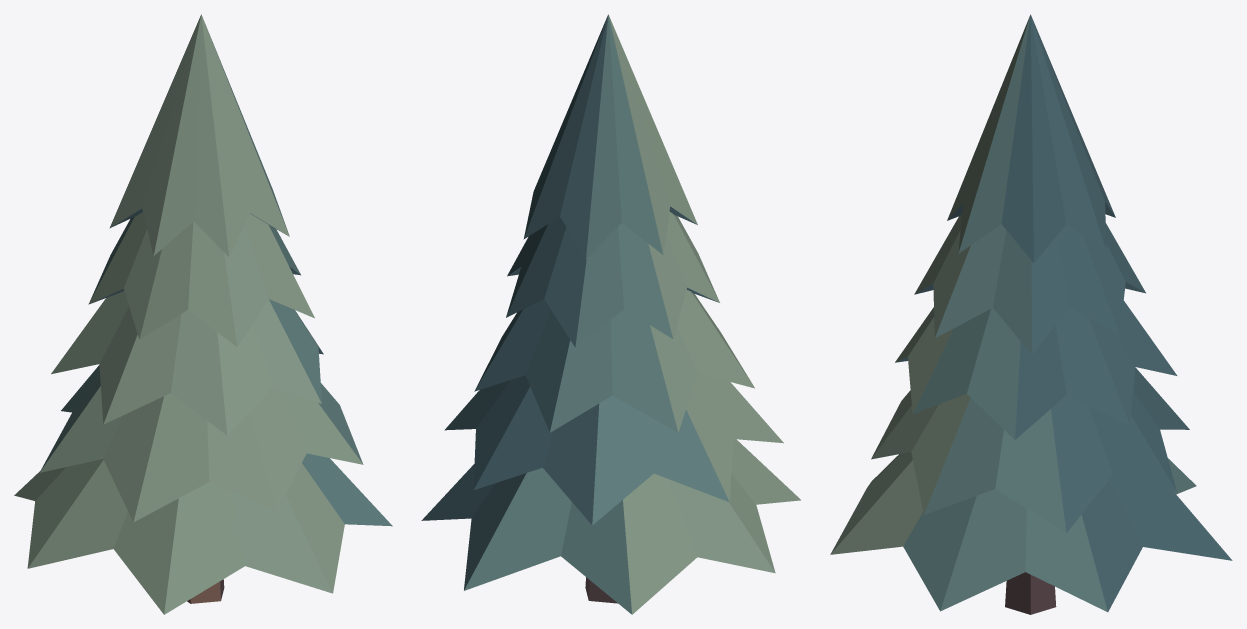
The model's file is pine_m.glb.
3 views of the same model, side by side, from view 1: azimuth 30°, elevation 25°; view 2: azimuth 150°, elevation 25°; view 3: azimuth 270°, elevation 25° (orthographic).
Visible parts, largest first — view 1: pine_m; view 2: pine_m; view 3: pine_m.
Part boxes in pixels (left/top/right/bottom): pine_m: left=14, top=14, right=392, bottom=614; pine_m: left=421, top=14, right=800, bottom=614; pine_m: left=830, top=14, right=1232, bottom=614.
Size of the model in its own units: 2.45 by 4.25 by 2.63.
